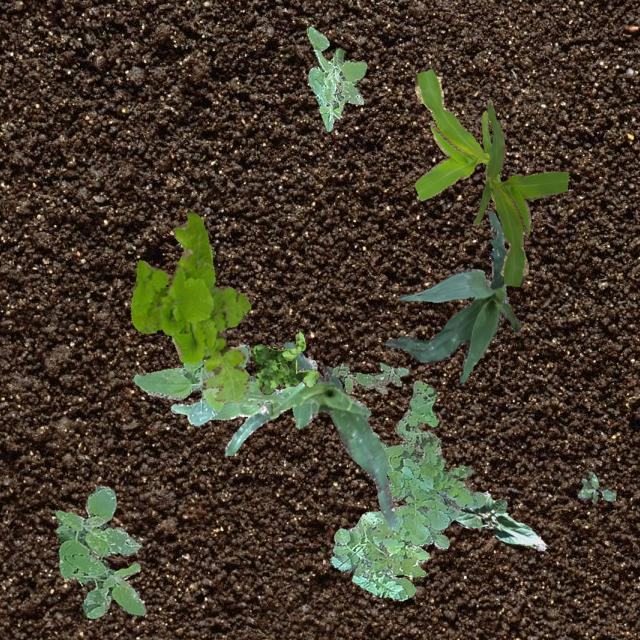crop: (384, 210, 520, 380), (284, 340, 396, 528), (472, 98, 568, 286), (170, 356, 316, 454), (413, 68, 499, 202), (452, 490, 544, 550)
weed: (328, 380, 486, 600), (130, 210, 250, 400), (54, 484, 146, 618), (132, 344, 282, 424), (306, 26, 366, 130), (250, 331, 318, 394), (332, 362, 408, 392), (576, 470, 614, 502)
